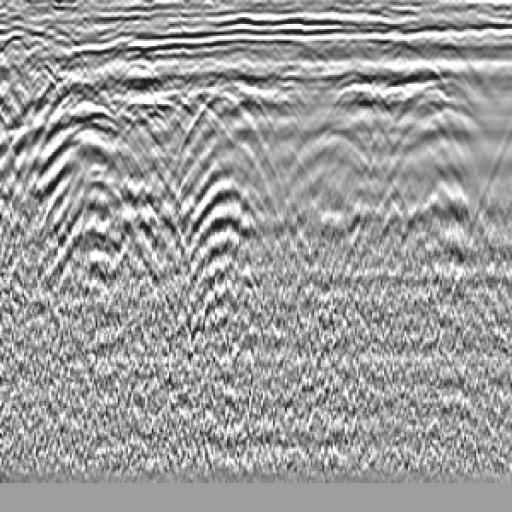metalic: (318, 69, 400, 131)
